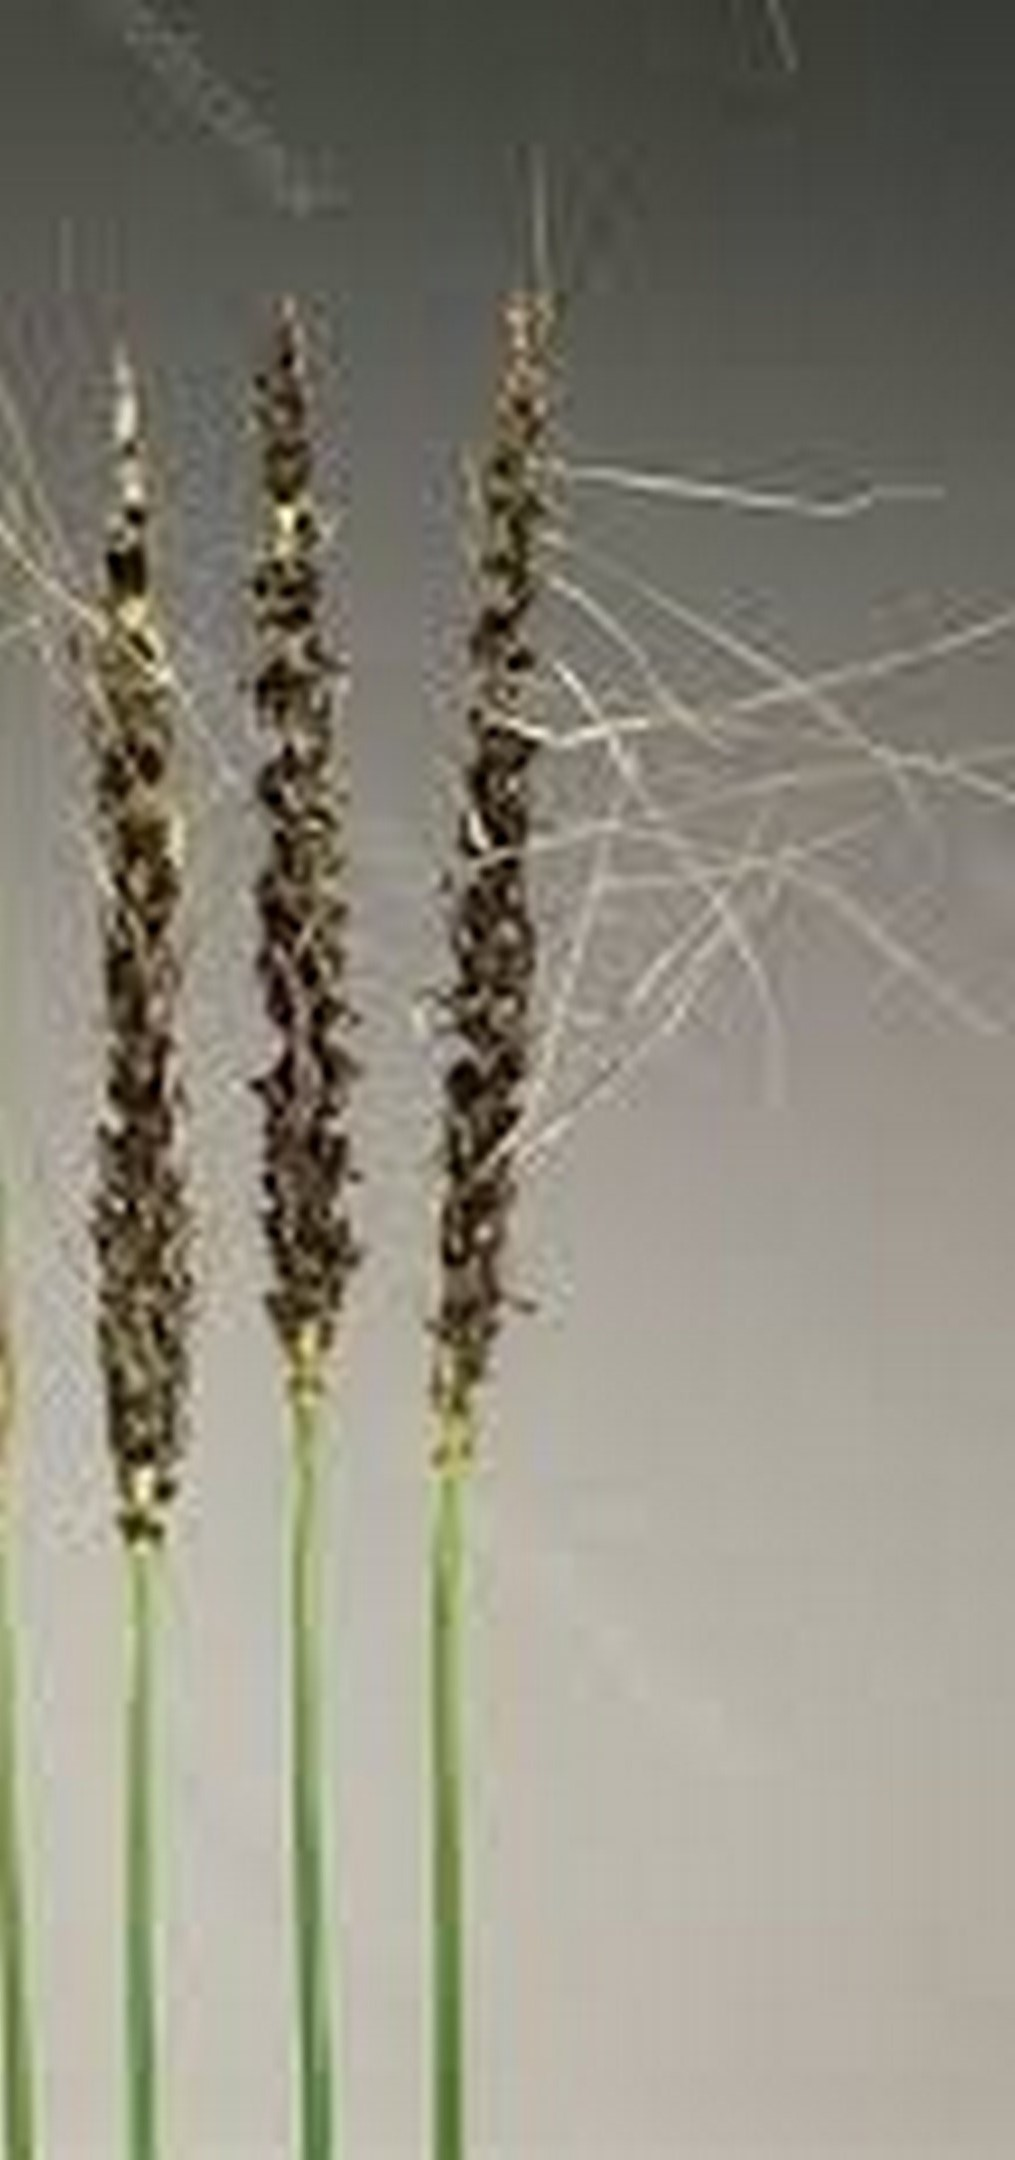Wheat Loose Smut: (56, 269, 617, 1496)
